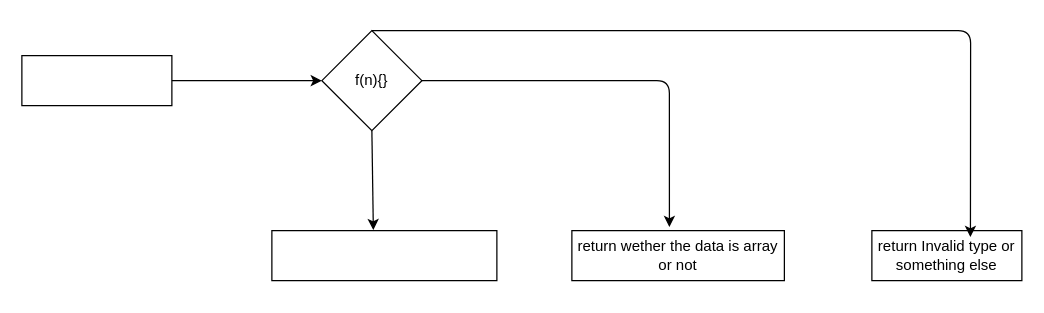
The diagram is 1044 pixels wide and 313 high, and some of its shapes have lost their labels. The shapes that lost their labels are listed below. From the top down, each one's centre as x and y in pixels, then its label:
(96,80): Input Data
(384,255): return type of data(undefined, string,number, boolean, object)
